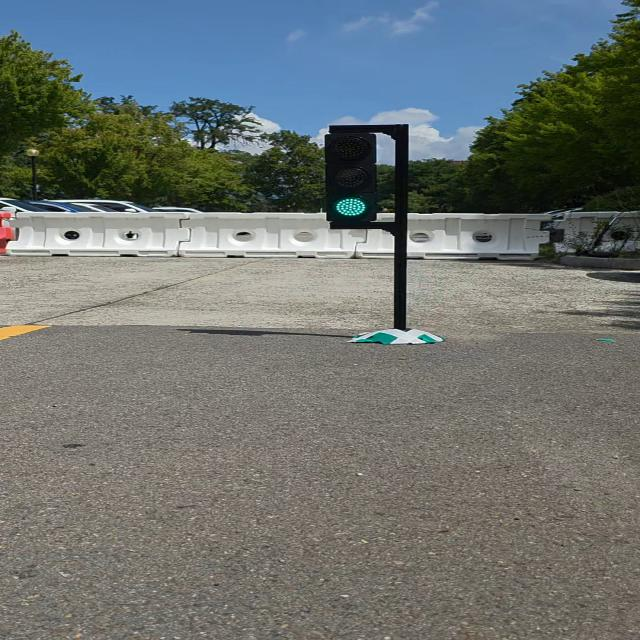green: (324, 130, 380, 228)
